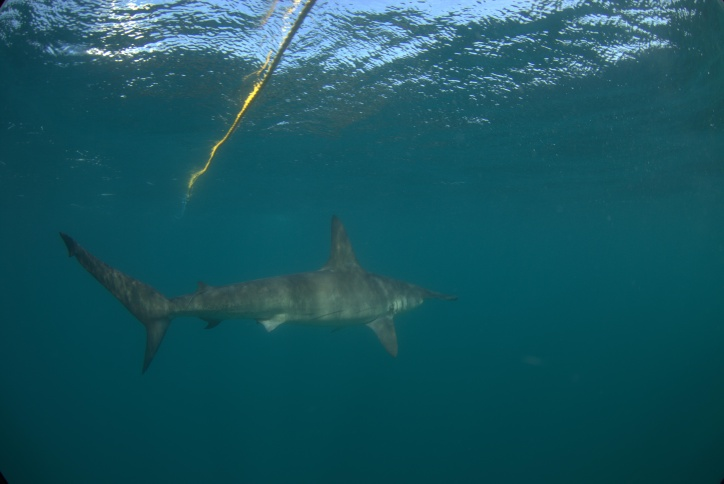Hammer: (39, 206, 489, 377)
